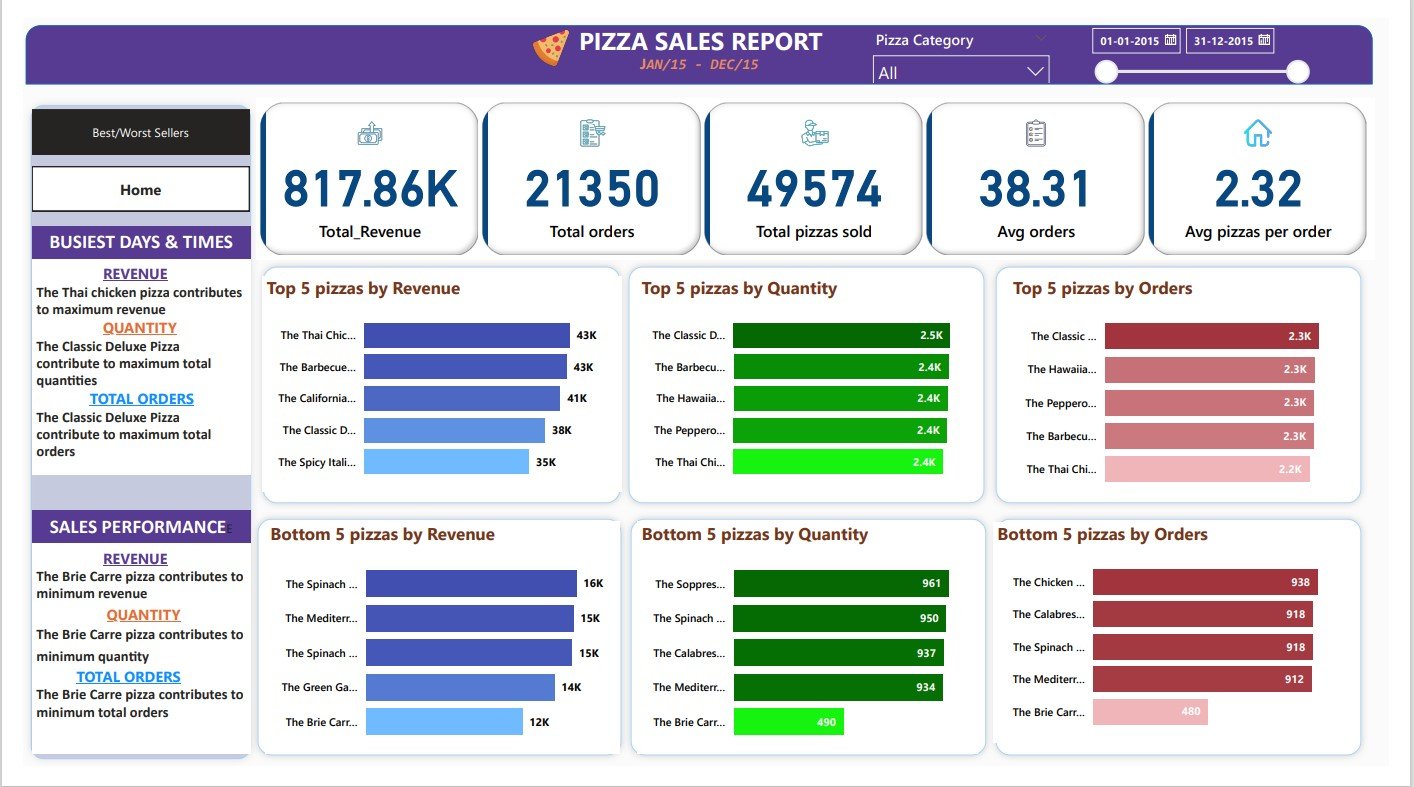

Layout of this report page (visuals, bound fields, positions):
{"tool":"powerbi","page":{"name":"Best/Worst Sellers","canvas":[1500,820],"ordinal":1},"visuals":[{"type":"shape","box":[0,86.8,256.6,732.8],"z":0},{"type":"cardVisual","fields":{"Data":["pizza_sales.Total_Revenue","pizza_sales.Total orders","pizza_sales.Total pizzas sold","pizza_sales.Avg orders","pizza_sales.Avg pizzas per order"]},"box":[254.7,86.8,1229.3,177.2],"z":1000},{"type":"shape","box":[1.8,7.4,1480.3,64.6],"z":2000},{"type":"textbox","box":[605.4,0,286.1,49.8],"z":3000},{"type":"textbox","box":[671.9,33.2,155,31.4],"z":4000},{"type":"image","box":[551.9,7.4,53.5,49.8],"z":5000},{"type":"shape","box":[254.7,263.9,407.9,275],"z":6000},{"type":"textbox","box":[9.2,227,240,36.9],"z":7000},{"type":"textbox","box":[9.2,263.9,240,236.3],"z":8000},{"type":"textbox","box":[9.2,539,240,36.9],"z":9000},{"type":"textbox","box":[9.2,575.9,240,230.7],"z":10000},{"type":"slicer","fields":{"Values":["pizza_sales.pizza_category"]},"box":[922.9,7.4,214.1,62.8],"z":11000},{"type":"slicer","fields":{"Values":["pizza_sales.order_date"]},"box":[1161,0,260.3,86.8],"z":12000},{"type":"shape","box":[657.1,263.9,406.1,275],"z":13000},{"type":"shape","box":[1061.3,263.9,415.3,275],"z":14000},{"type":"shape","box":[249.2,540.8,415.3,275],"z":15000},{"type":"shape","box":[1061.3,540.8,415.3,275],"z":16000},{"type":"shape","box":[659,540.8,406.1,275],"z":17000},{"type":"barChart","title":"Top 5 pizzas by Revenue","fields":{"Category":["pizza_sales.pizza_name"],"Y":["pizza_sales.Total_Revenue"]},"box":[262.1,282.4,395,236.3],"z":18000},{"type":"barChart","title":"Bottom 5 pizzas by Revenue","fields":{"Category":["pizza_sales.pizza_name"],"Y":["pizza_sales.Total_Revenue"]},"box":[265.8,551.9,389.5,254.7],"z":19000},{"type":"barChart","title":"Top 5 pizzas by Quantity","fields":{"Category":["pizza_sales.pizza_name"],"Y":["pizza_sales.Total pizzas sold"]},"box":[673.7,282.4,374.7,236.3],"z":20000},{"type":"barChart","title":"Bottom 5 pizzas by Quantity","fields":{"Category":["pizza_sales.pizza_name"],"Y":["pizza_sales.Total pizzas sold"]},"box":[673.7,551.9,374.7,254.7],"z":21000},{"type":"barChart","title":"Top 5 pizzas by Orders","fields":{"Category":["pizza_sales.pizza_name"],"Y":["pizza_sales.Total orders"]},"box":[1081.6,282.4,372.9,245.5],"z":22000},{"type":"barChart","title":"Bottom 5 pizzas by Orders","fields":{"Category":["pizza_sales.pizza_name"],"Y":["pizza_sales.Total orders"]},"box":[1065,551.9,389.5,241.8],"z":23000},{"type":"pageNavigator","box":[9.2,99.7,240,49.8],"z":23001},{"type":"pageNavigator","box":[9.2,162.4,240,49.8],"z":23002}]}

Visuals, with their boxes in screenshot pixels (x1, y1, x2, y2), scaled from the page's 1500x820 canvas onto the 1414x787 screenshot:
shape: [0, 83, 242, 786]
cardVisual - pizza_sales.Total_Revenue x pizza_sales.Total orders: [240, 83, 1399, 253]
shape: [2, 7, 1397, 69]
textbox: [571, 0, 840, 48]
textbox: [633, 32, 779, 62]
image: [520, 7, 571, 55]
shape: [240, 253, 625, 517]
textbox: [9, 218, 235, 253]
textbox: [9, 253, 235, 480]
textbox: [9, 517, 235, 553]
textbox: [9, 553, 235, 774]
slicer - pizza_sales.pizza_category: [870, 7, 1072, 67]
slicer - pizza_sales.order_date: [1094, 0, 1340, 83]
shape: [619, 253, 1002, 517]
shape: [1000, 253, 1392, 517]
shape: [235, 519, 626, 783]
shape: [1000, 519, 1392, 783]
shape: [621, 519, 1004, 783]
"Top 5 pizzas by Revenue" barChart: [247, 271, 619, 498]
"Bottom 5 pizzas by Revenue" barChart: [251, 530, 618, 774]
"Top 5 pizzas by Quantity" barChart: [635, 271, 988, 498]
"Bottom 5 pizzas by Quantity" barChart: [635, 530, 988, 774]
"Top 5 pizzas by Orders" barChart: [1020, 271, 1371, 507]
"Bottom 5 pizzas by Orders" barChart: [1004, 530, 1371, 762]
pageNavigator: [9, 96, 235, 143]
pageNavigator: [9, 156, 235, 204]
